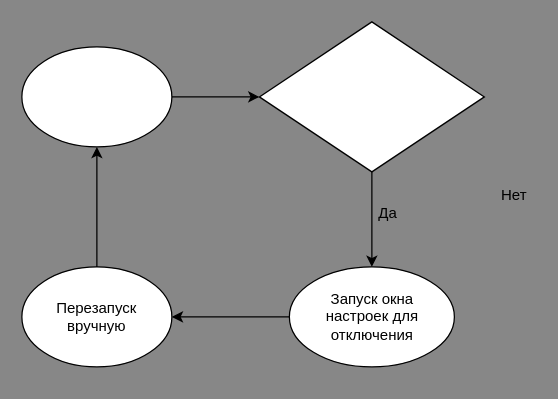
This 558x399 diagram has some shape labels left out. Here are the shapes that lost their labels. From the top down, the centre of each, then its label:
At point (96, 96): "Запуск приложения".
At point (371, 96): "Оптимизация батареи включена?".
